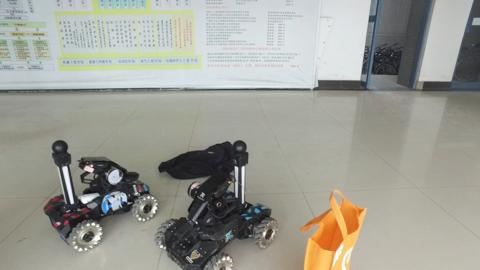bag: (155, 137, 227, 172)
chariot: (155, 144, 276, 268), (40, 139, 158, 249)
